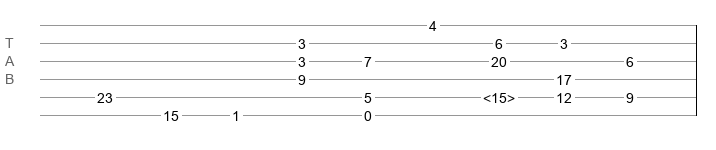0: (364, 108, 372, 118)
1: (232, 108, 240, 118)
12: (556, 90, 572, 100)
15: (163, 108, 179, 118)
17: (556, 72, 572, 82)
20: (491, 54, 507, 64)
23: (97, 90, 113, 100)
3: (298, 54, 306, 64), (298, 36, 306, 46), (560, 36, 568, 46)
4: (429, 18, 437, 28)
5: (364, 90, 372, 100)
6: (495, 36, 503, 46), (626, 54, 634, 64)
7: (364, 54, 372, 64)
9: (298, 72, 306, 82), (626, 90, 634, 100)
harmonic: (483, 90, 515, 100)
